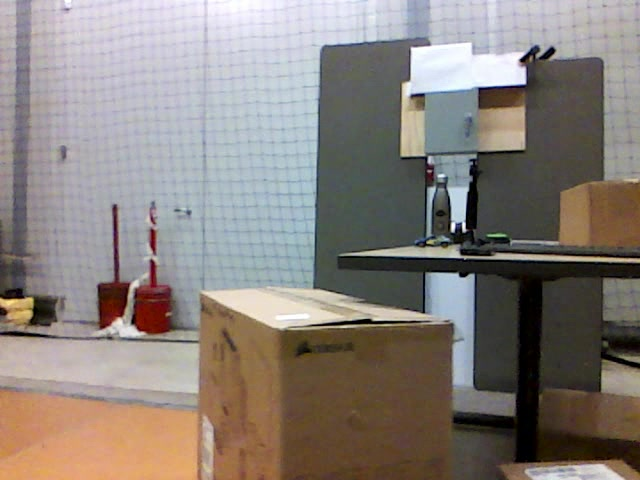box: (200, 288, 453, 480), (541, 387, 640, 469), (559, 180, 639, 246), (501, 461, 640, 480)
